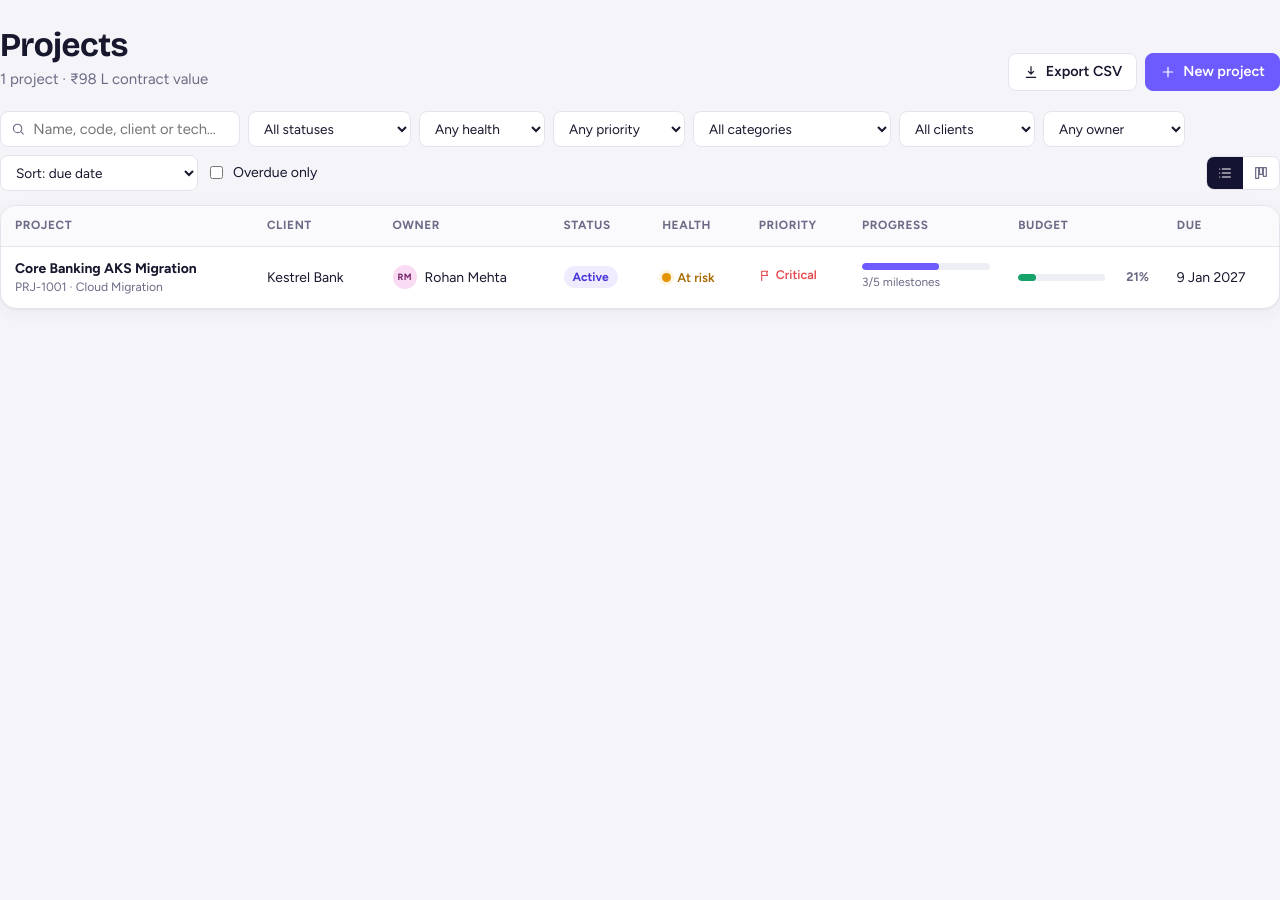
projects list › renders projects and lets a manager start a new one
The image size is (1280, 900).
Expected: the text "Core Banking AKS Migration" is shown, [15,260,197,276]
Expected: the text "1 project · ₹98 L contract value" is shown, [0,68,208,91]
Click the button "New project".
click(1213, 72)  # box [1145,53,1279,91]
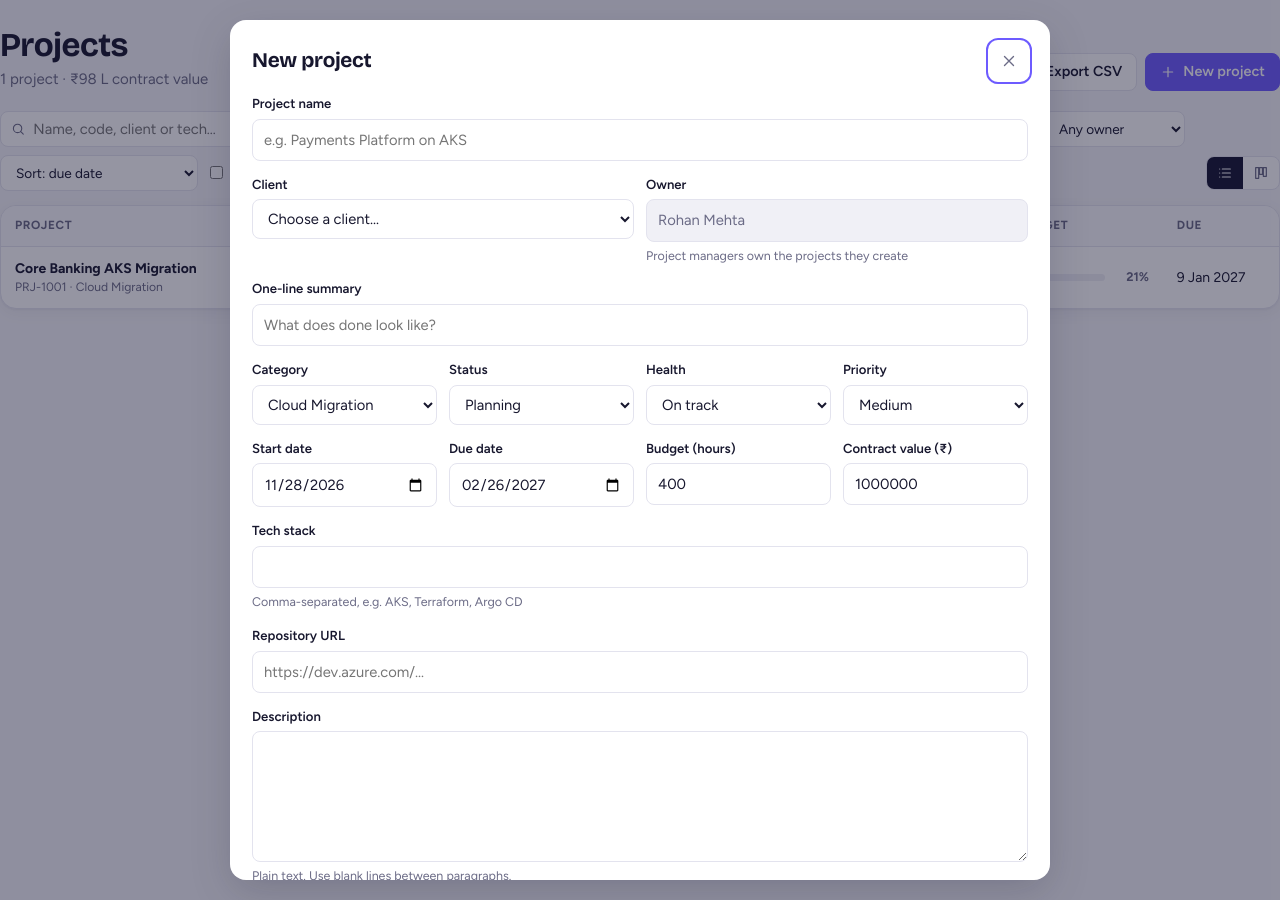
Expected: the dialog "New project" is shown
